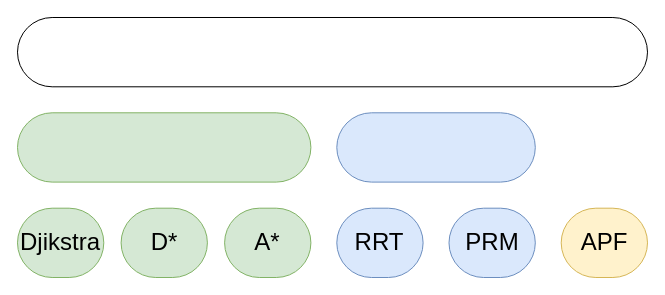
Some shapes in this 665 by 295 pixel diagram are drawn without their labels. Here are the shapes that lost their labels. From the top down, the centre of each, then its label:
At (332,51): "Motion Planning algorithms".
At (163,147): "Decomposition Based".
At (435,147): "Sampling Based".
